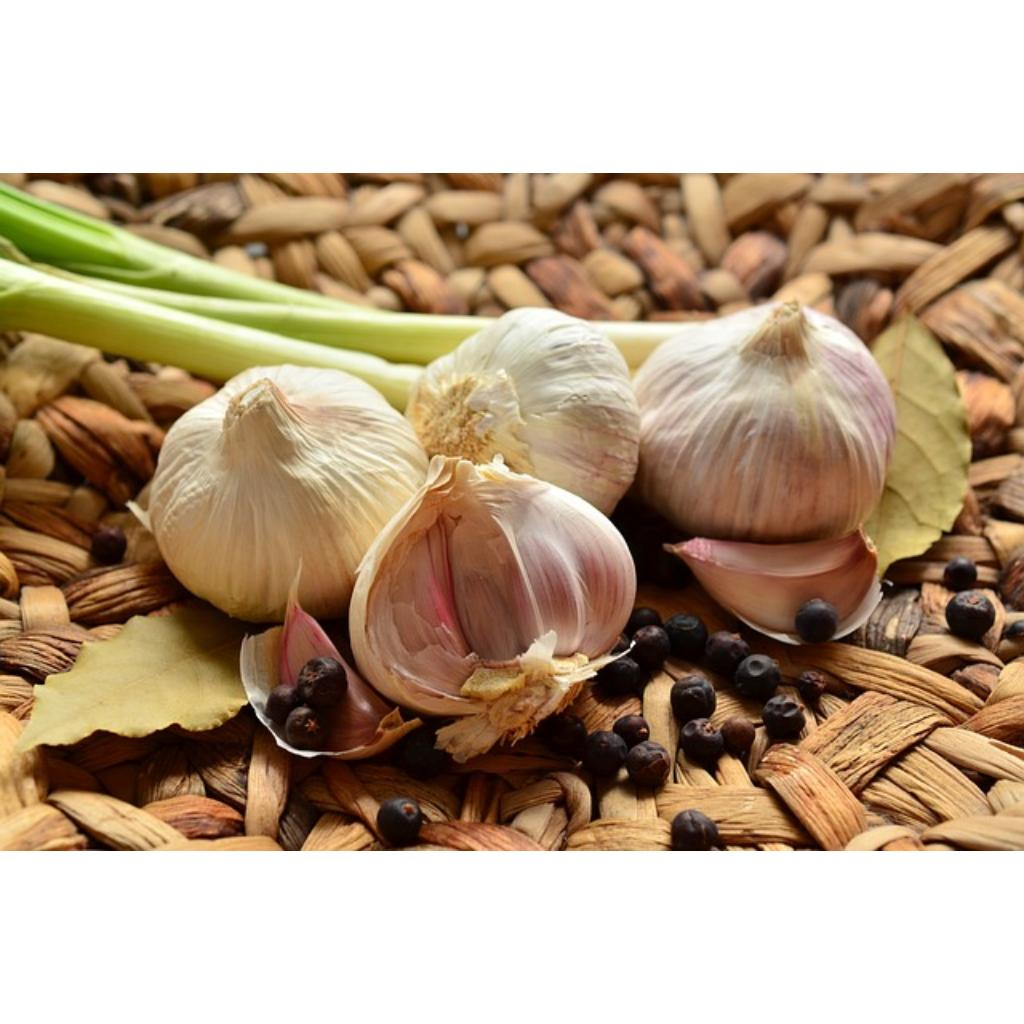garlic: (350, 457, 636, 761), (150, 365, 428, 622), (638, 303, 896, 542), (406, 309, 640, 512), (666, 529, 878, 634)
